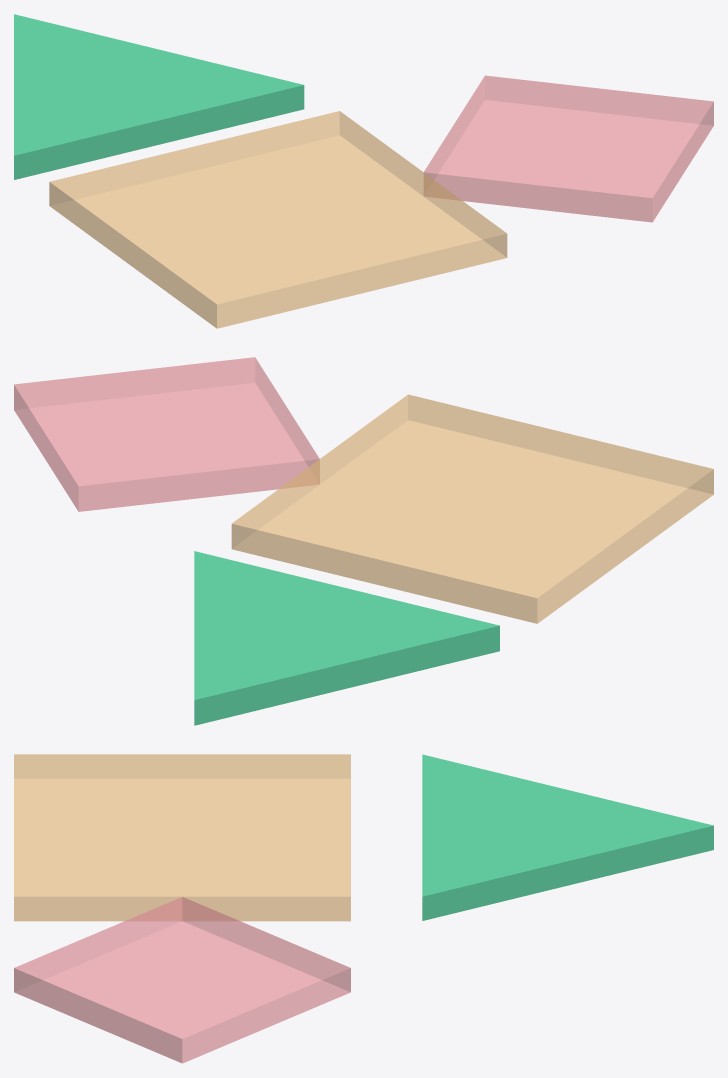
File: pesce_step4.glb
3 views of the same model, one above another, from view 1: azimuth 30°, elevation 25°; view 2: azimuth 150°, elevation 25°; view 3: azimuth 270°, elevation 25° (orthographic). The views are drawn at different scales.
Visible parts, largest first — view 1: quadrato_piccolo, rombo, triangolo_equilatero; view 2: quadrato_piccolo, rombo, triangolo_equilatero; view 3: quadrato_piccolo, rombo, triangolo_equilatero.
Boxes of the visible parts, left/top/right/bottom form: quadrato_piccolo: left=49, top=111, right=507, bottom=328; rombo: left=424, top=75, right=713, bottom=222; triangolo_equilatero: left=14, top=14, right=304, bottom=179; quadrato_piccolo: left=231, top=394, right=713, bottom=623; rombo: left=14, top=357, right=319, bottom=511; triangolo_equilatero: left=194, top=551, right=499, bottom=725; quadrato_piccolo: left=14, top=754, right=350, bottom=921; rombo: left=14, top=897, right=350, bottom=1063; triangolo_equilatero: left=422, top=754, right=713, bottom=920.
Size of the model in its own units: 2 by 0.08 by 2.08.
